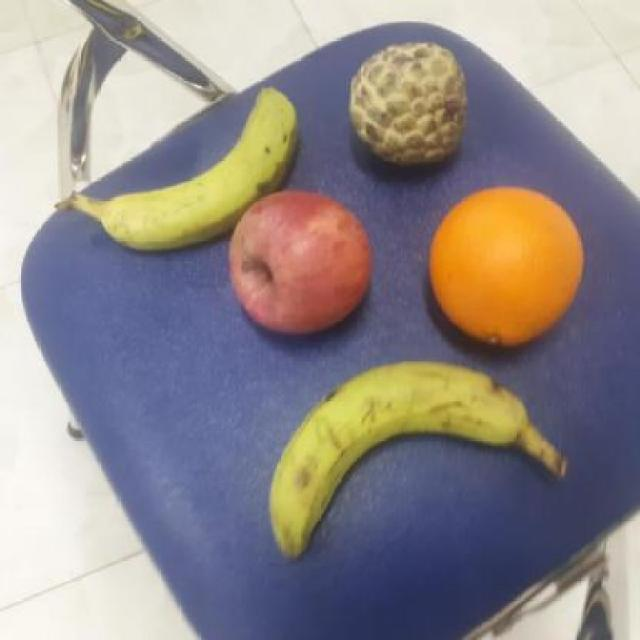apple: (226, 191, 376, 334)
banana: (262, 360, 533, 562), (93, 78, 302, 255)
oren: (424, 185, 588, 349)
sugar apple: (345, 41, 469, 168)
